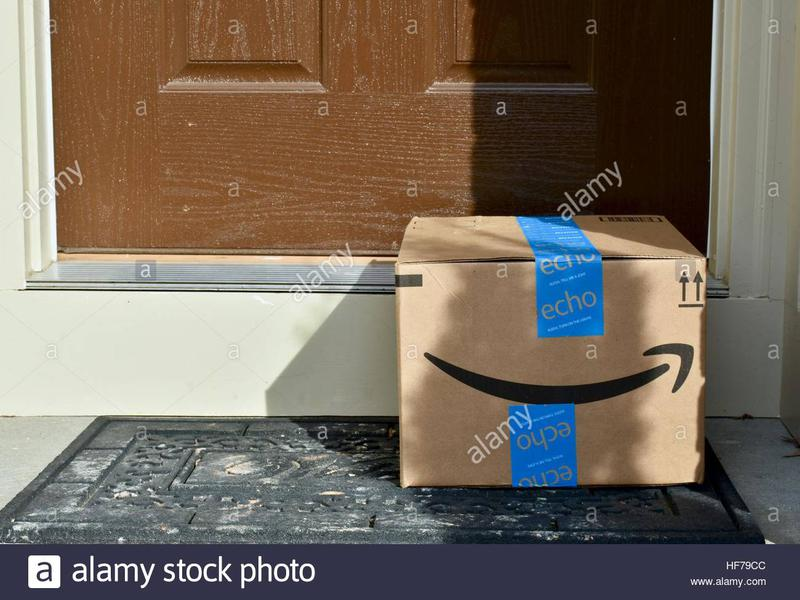package: (384, 203, 717, 497)
